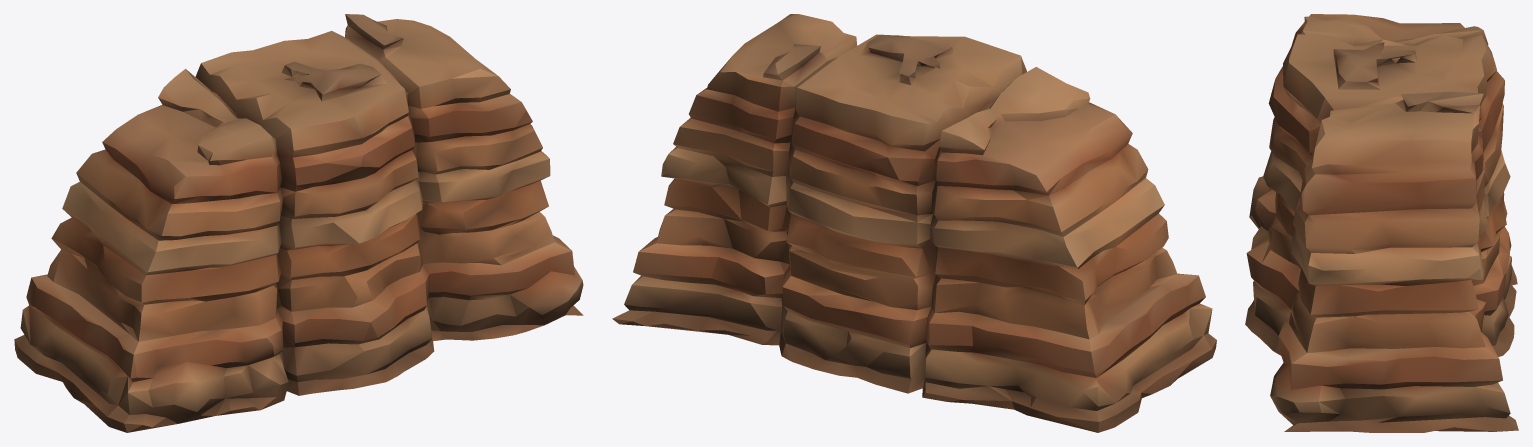
The model's file is cliff_b.glb.
The picture shows the model from 3 angles, left to right: view 1: azimuth 30°, elevation 25°; view 2: azimuth 150°, elevation 25°; view 3: azimuth 270°, elevation 25°; orthographic projection. The views are drawn at different scales.
Visible parts, largest first — view 1: CliffB; view 2: CliffB; view 3: CliffB.
Boxes of the visible parts, x1,y1,x2,y2 form: CliffB: [14, 14, 583, 432]; CliffB: [612, 14, 1216, 432]; CliffB: [1245, 14, 1518, 432].
Bounding box in the file's own units: 21.98 × 11.72 × 10.66.
